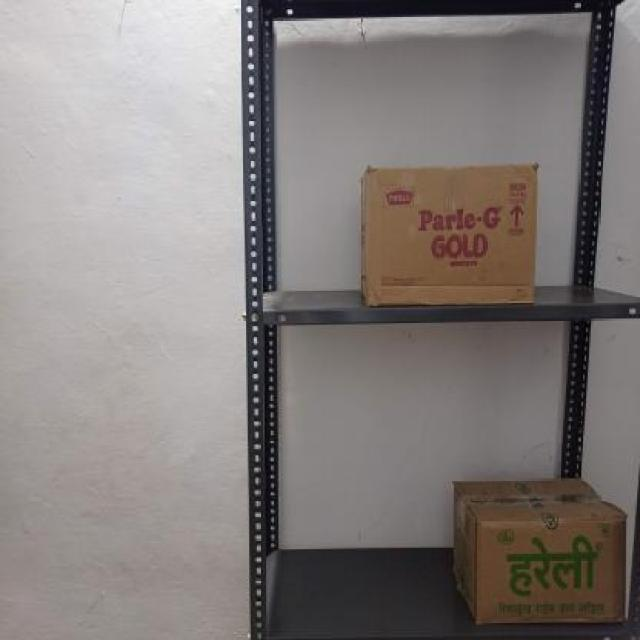box: (364, 166, 540, 306), (475, 517, 625, 628)
